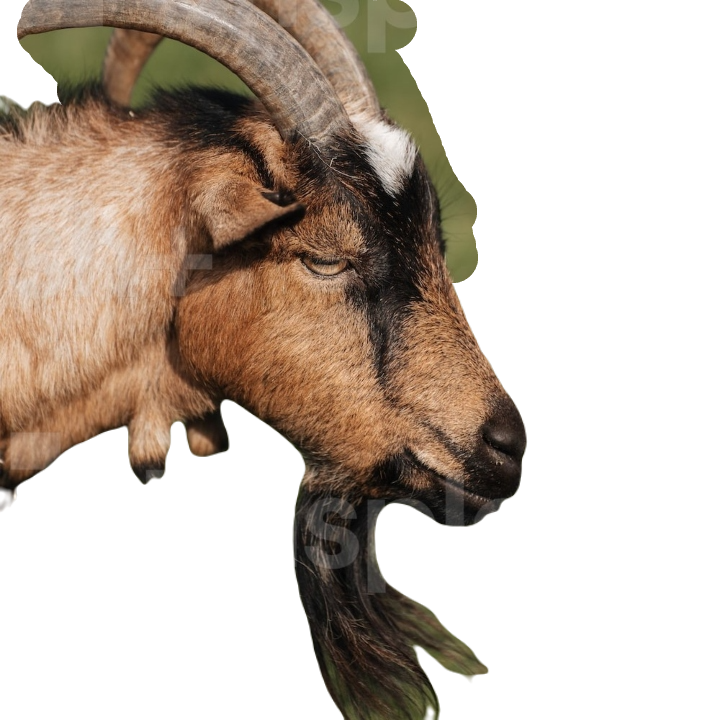Goat: (2, 1, 526, 719)
